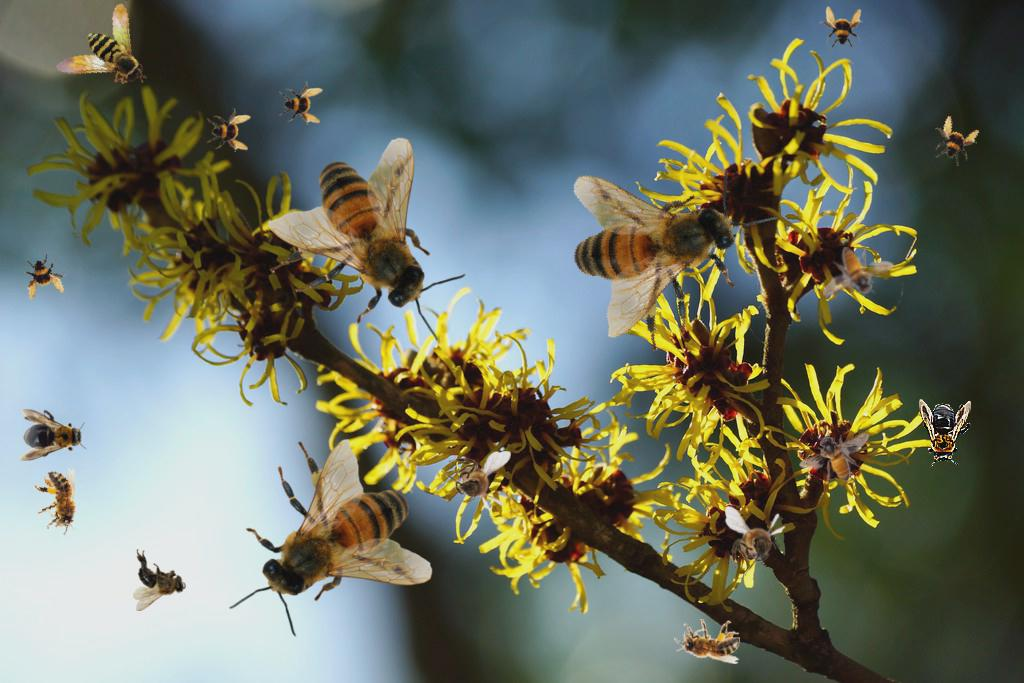Bee: (528, 120, 789, 378), (229, 439, 433, 638), (268, 137, 467, 341), (45, 1, 149, 99), (29, 466, 89, 541), (725, 506, 786, 576), (441, 451, 511, 512), (798, 431, 870, 484), (823, 247, 894, 297), (919, 399, 971, 467), (19, 409, 87, 461), (925, 112, 983, 170), (133, 549, 186, 611), (16, 248, 72, 304), (674, 619, 740, 664), (279, 81, 323, 125), (819, 6, 863, 50), (207, 108, 251, 152)
